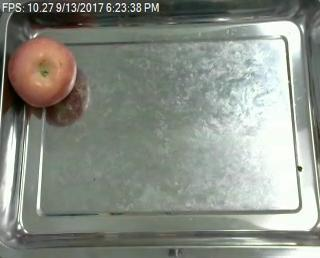apple: (6, 37, 76, 107)
